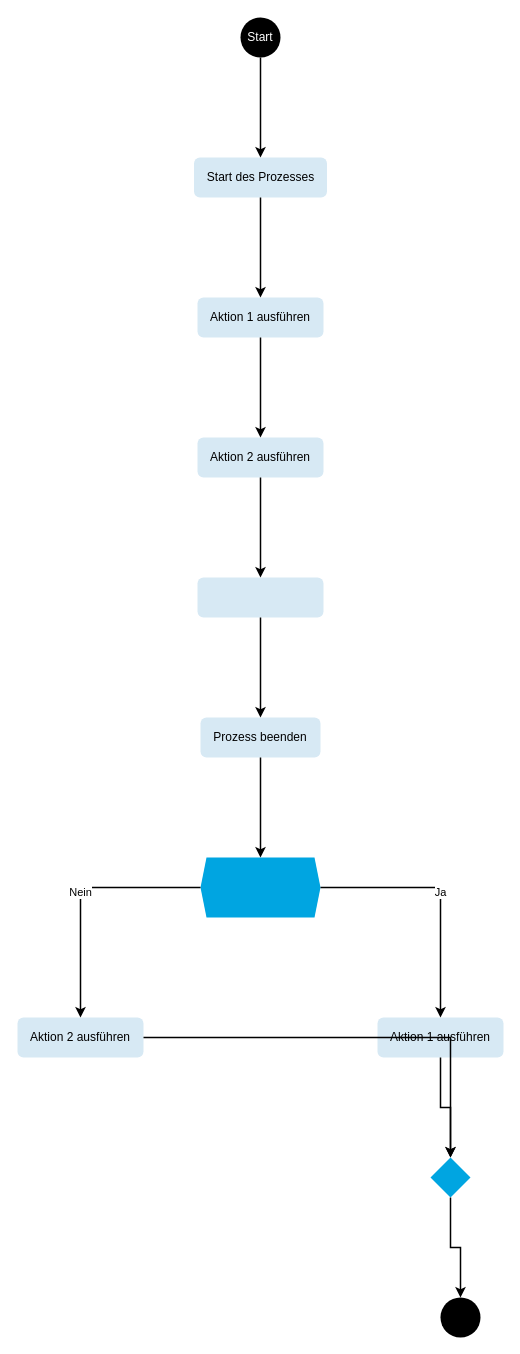
Image size: 520x1354. Some labels were removed from this diagram. Each missing label, with the centre of its shape:
"Aktion 3 ausführen" belongs at (260,597).
"Bedingung erfüllt?" belongs at (260,887).
"Stop" belongs at (460,1317).
